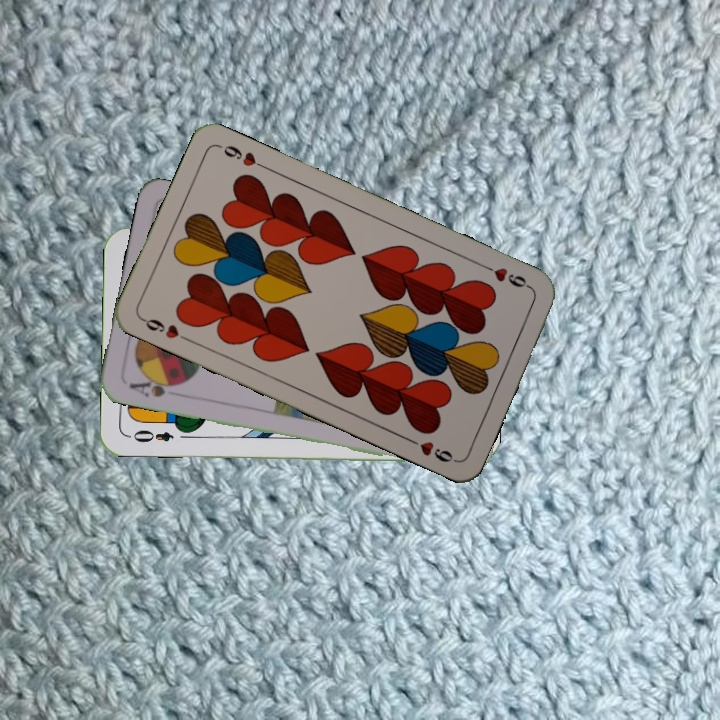EO: (129, 426, 177, 445)
H9: (137, 313, 193, 345), (479, 261, 535, 292)
SA: (125, 372, 184, 400)
